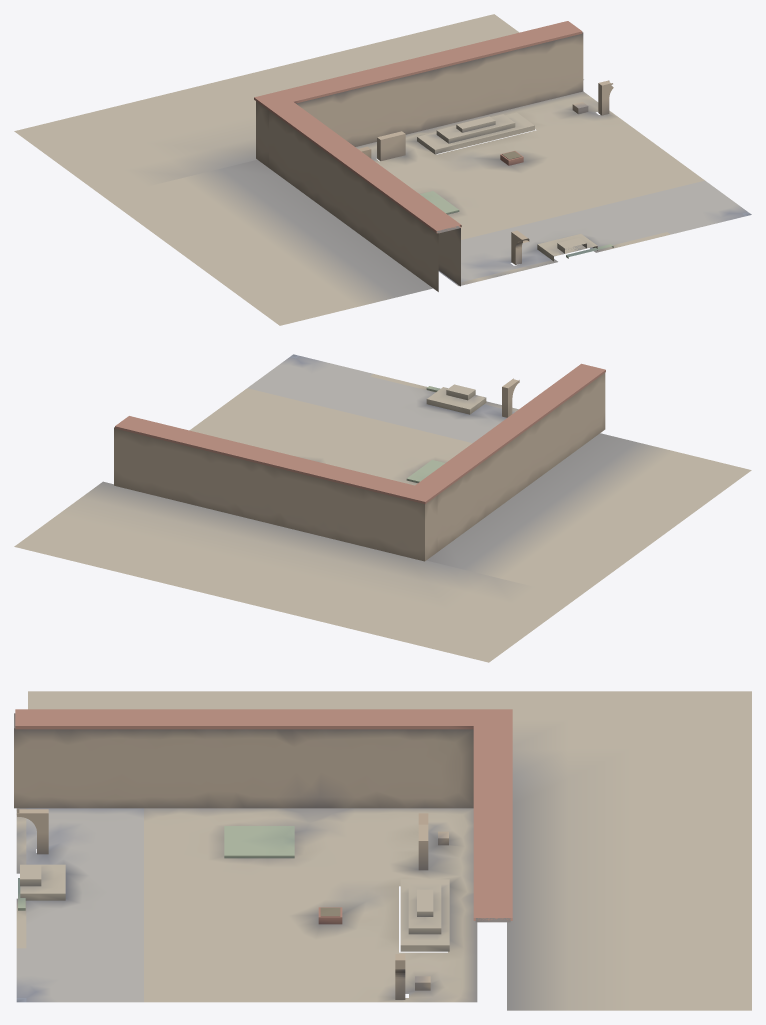
The picture shows the model from 3 angles, top to bottom: view 1: azimuth 30°, elevation 25°; view 2: azimuth 150°, elevation 25°; view 3: azimuth 270°, elevation 25°; orthographic projection. The views are drawn at different scales.
Parts seen in each view (by area): view 1: t; view 2: t; view 3: t.
Boxes of the visible parts, left/top/right/bottom form: t: left=14, top=14, right=751, bottom=325; t: left=14, top=354, right=751, bottom=662; t: left=14, top=691, right=751, bottom=1010.
Bounding box in the file's own units: 77 × 9.35 × 75.27.
